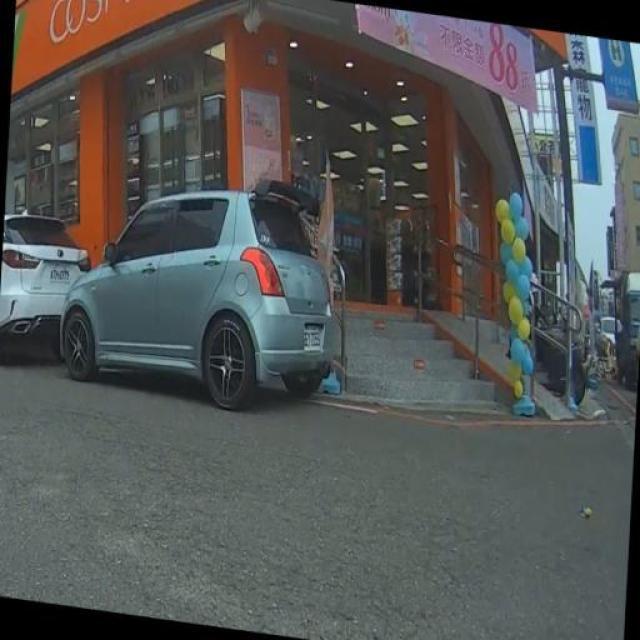Legalparking: (0, 132, 585, 490)
